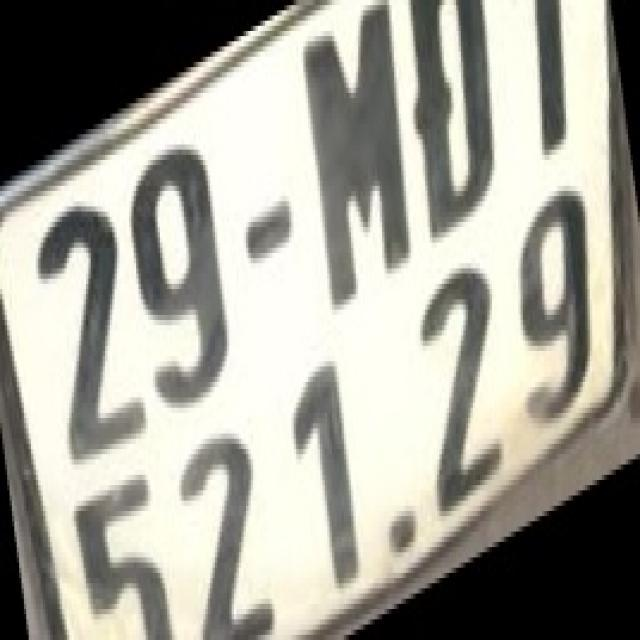1: (288, 351, 366, 609)
2: (36, 186, 146, 460), (416, 258, 506, 516), (176, 418, 278, 640)
5: (65, 469, 173, 640)
9: (133, 139, 230, 413), (518, 180, 595, 434)
D: (411, 0, 500, 237)
M: (301, 16, 413, 304)
